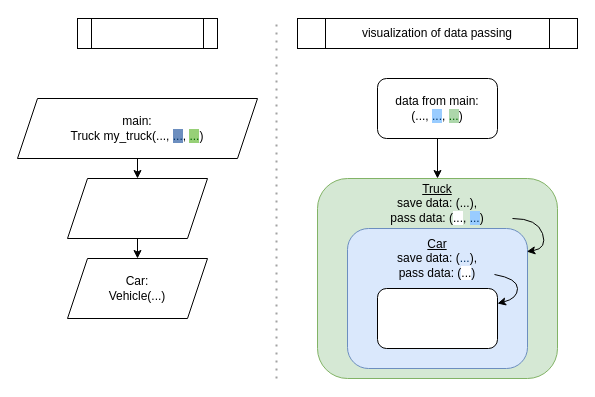
This 595x397 diagram has some shape labels left out. The shapes that lost their labels are listed below. From the top down, each one's centre as x and y in pixels, then its label:
At point (147, 33): "order of calls".
At point (137, 208): "Truck: Car(..., ... )".
At point (437, 318): "Vehicle save data: (...)".
